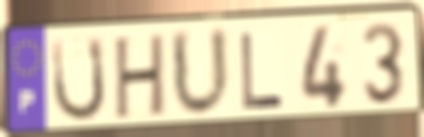3: (360, 20, 407, 106)
4: (298, 23, 349, 111)
H: (113, 31, 167, 123)
L: (238, 30, 286, 111)
U: (168, 24, 233, 121), (50, 35, 108, 125)
